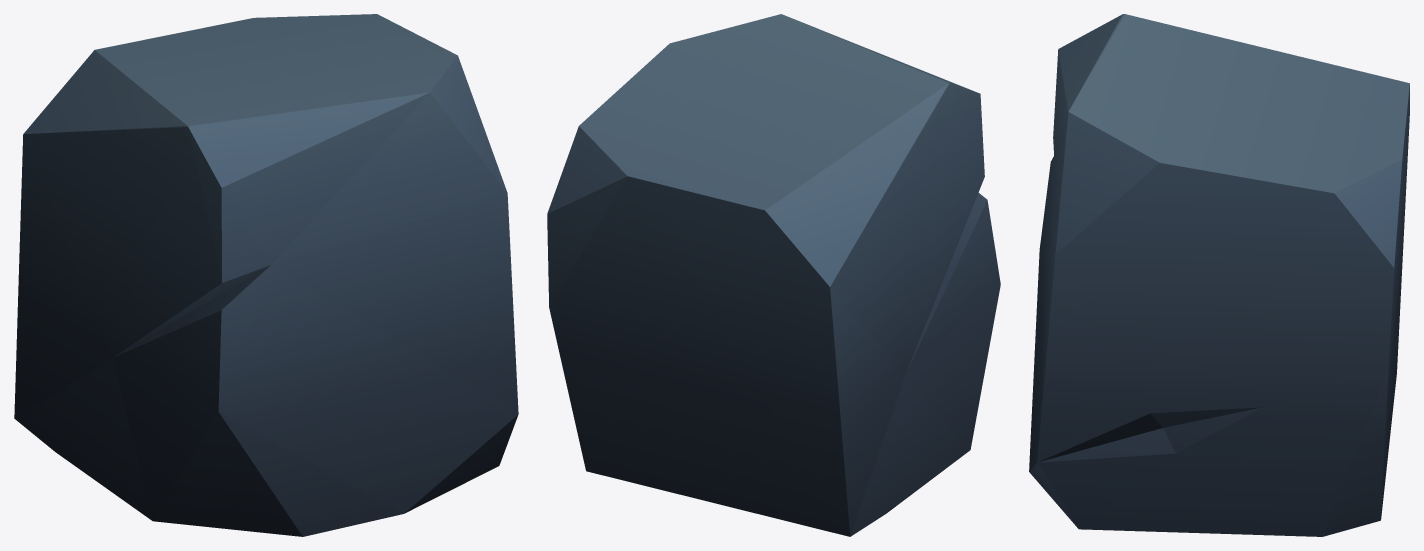
Rendered from rock_block_1.glb.
3 renders of one model, left to right at view 1: azimuth 30°, elevation 25°; view 2: azimuth 150°, elevation 25°; view 3: azimuth 270°, elevation 25°, orthographic. The views are drawn at different scales.
Visible parts, largest first — view 1: rock_block_1; view 2: rock_block_1; view 3: rock_block_1.
Boxes of the visible parts, x1,y1,x2,y2 form: rock_block_1: (14,14,518,536); rock_block_1: (547,14,1000,536); rock_block_1: (1029,14,1409,536).
Bounding box in the file's own units: 1.1 × 1.24 × 1.12.
Materials: 1 (1 with a texture image).
